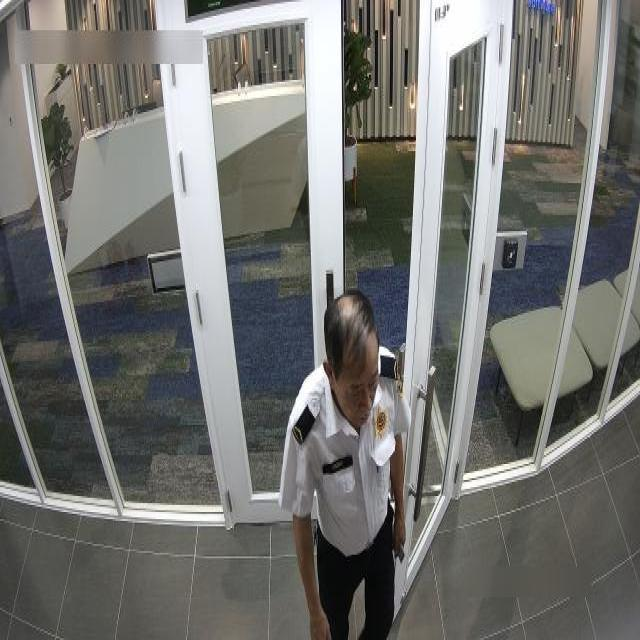bare_hand: (385, 489, 419, 565), (302, 594, 344, 640)
